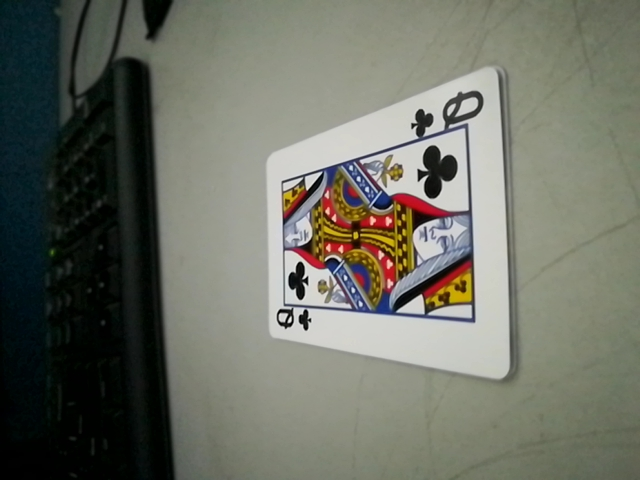mh q: (412, 88, 488, 139), (267, 300, 319, 338)
